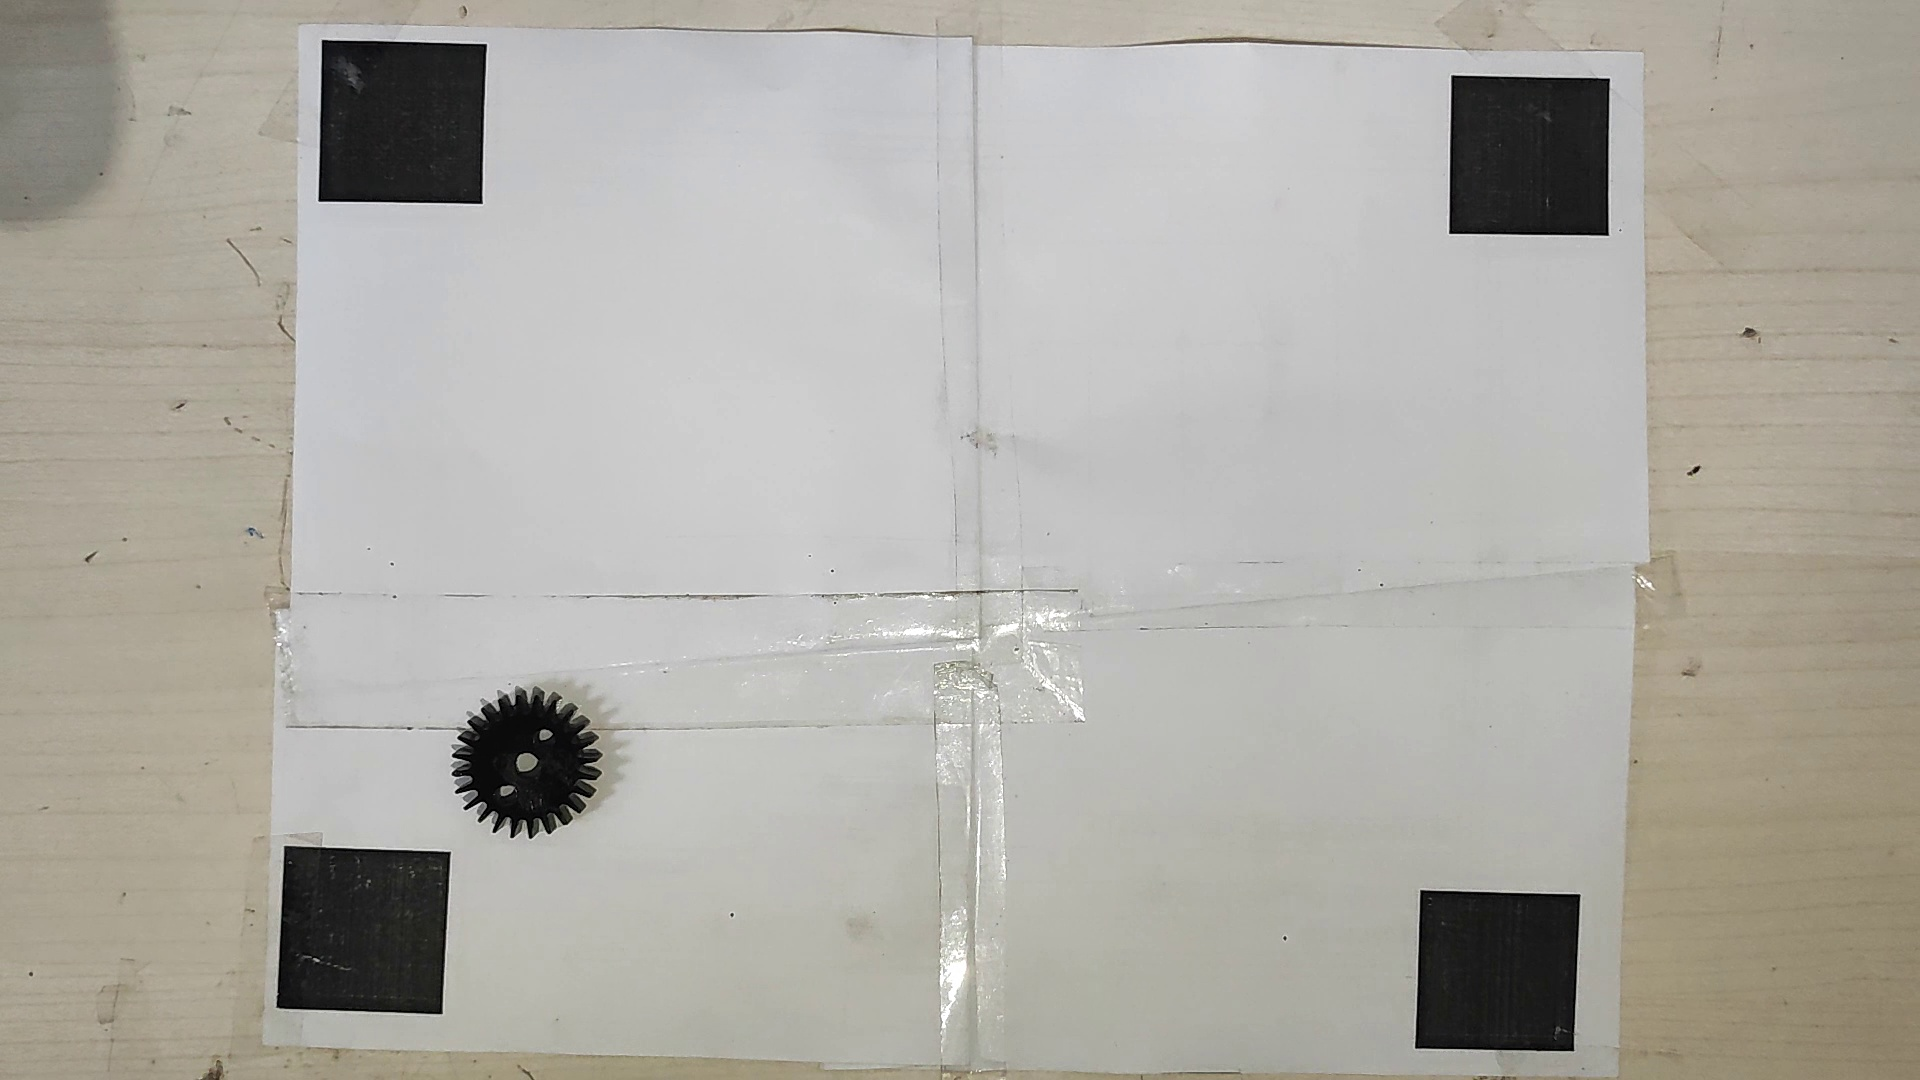Gear: (439, 680, 616, 839)
